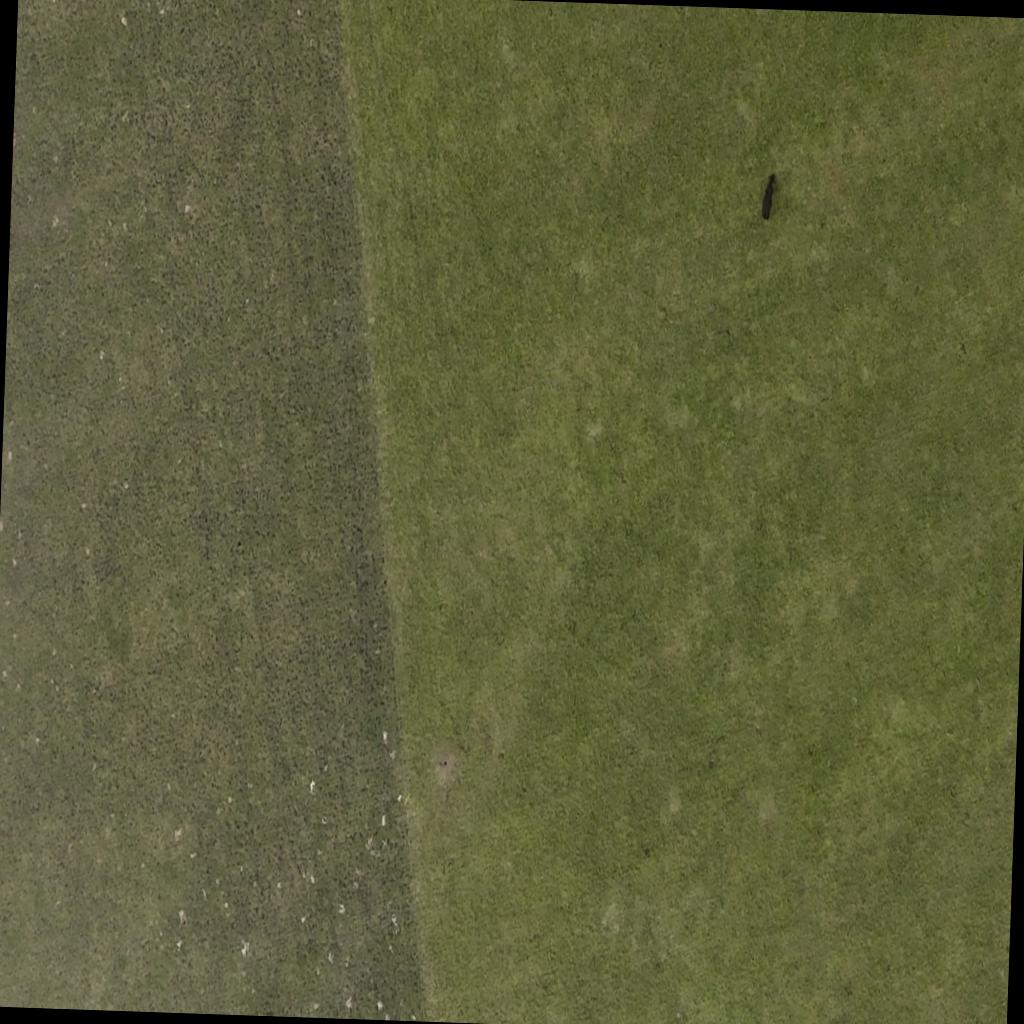cow: (756, 167, 779, 226)
